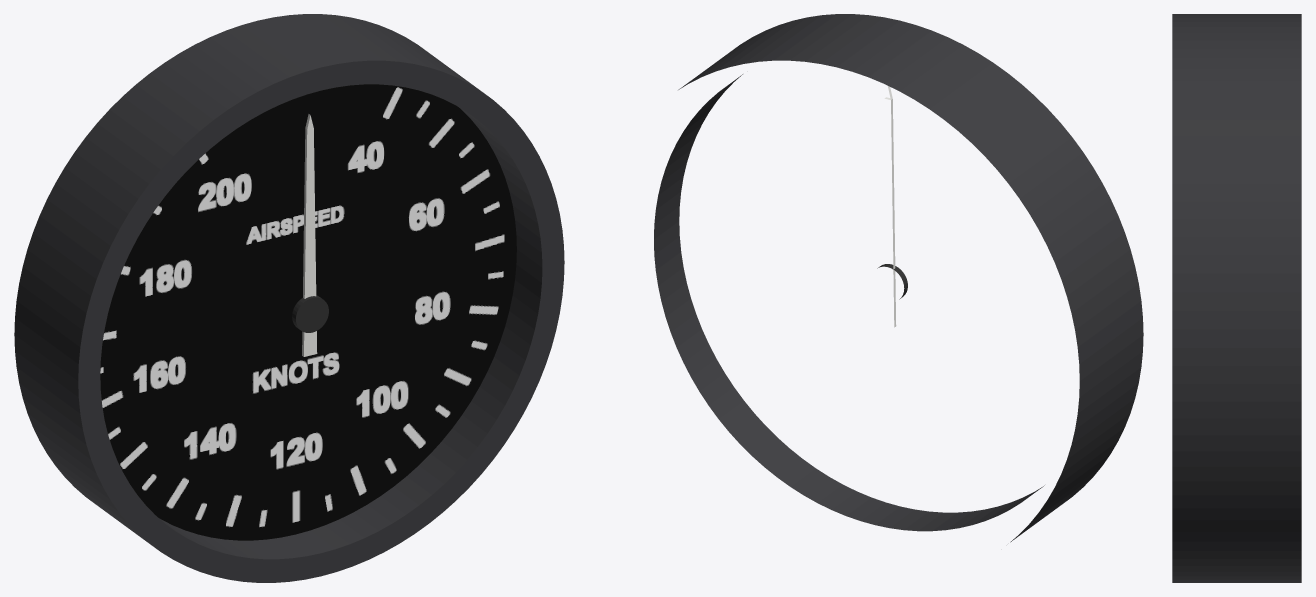
Rendered from airspeed.glb.
The picture shows the model from 3 angles, left to right: view 1: azimuth 30°, elevation 25°; view 2: azimuth 150°, elevation 25°; view 3: azimuth 270°, elevation 25°; orthographic projection.
Parts seen in each view (by area): view 1: ASI_Face, ASI_Bezel, ASI_Needle, ASI_Hub; view 2: ASI_Bezel; view 3: ASI_Bezel.
Boxes of the visible parts, x1,y1,x2,y2 form: ASI_Face: (100, 84, 516, 540); ASI_Bezel: (14, 14, 564, 582); ASI_Needle: (302, 114, 317, 356); ASI_Hub: (292, 295, 328, 332); ASI_Bezel: (654, 14, 1143, 542); ASI_Bezel: (1172, 14, 1301, 582).
Bounding box in the file's own units: 2.2 × 2.2 × 0.5.
4 materials, 1 textured.
